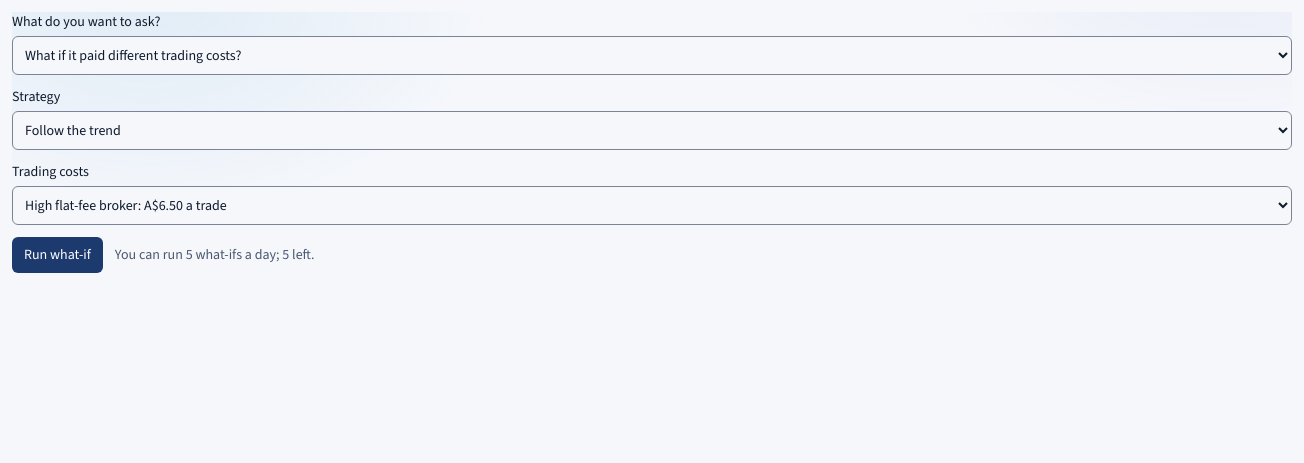
Scenario: what-if form variants › asks for a price move for the shock question and shows its answer with signed amounts
The width and height of the screenshot is (1304, 463).
Select "What if every share moved by the same percentage?" in the dropdown labelled "What do you want to ask?" at (652,56), box [12,36,1292,75]
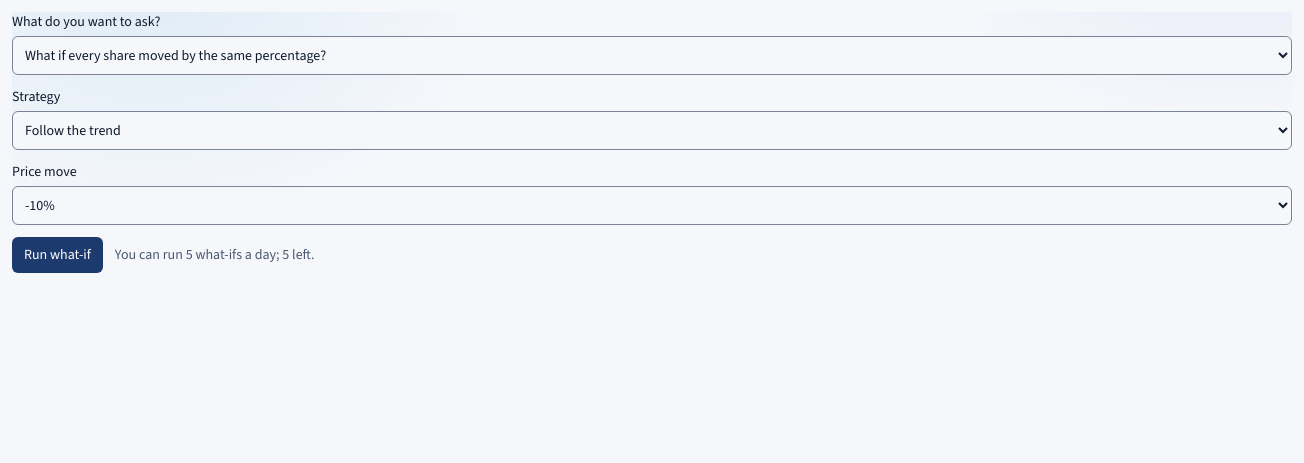
Expected: the text "Trading costs" is gone
Select "+10%" in the dropdown labelled "Price move" at (652,206), box [12,186,1292,225]
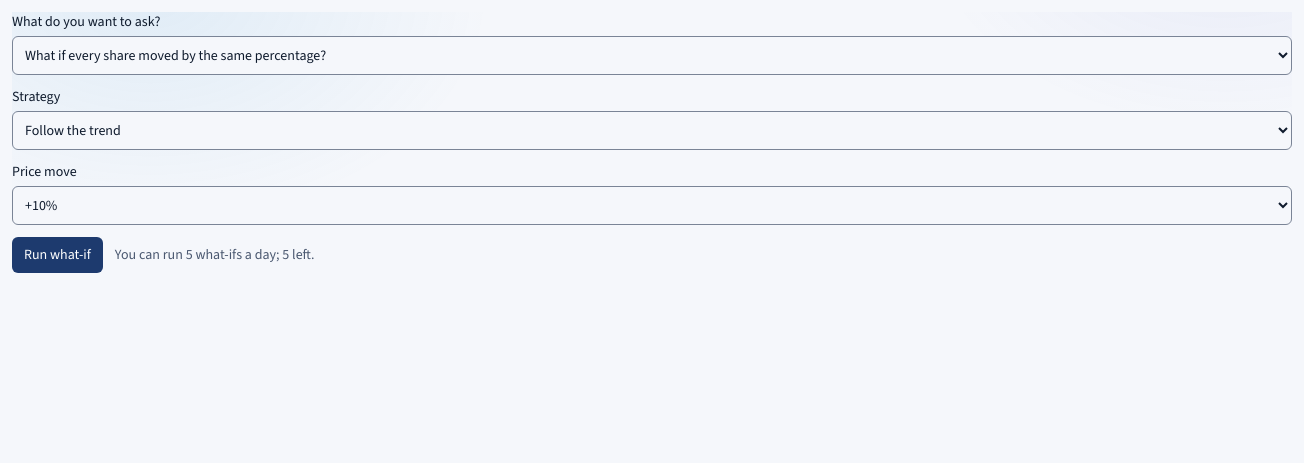
Click the button "Run what-if" at (57,255), box [12,237,103,273]
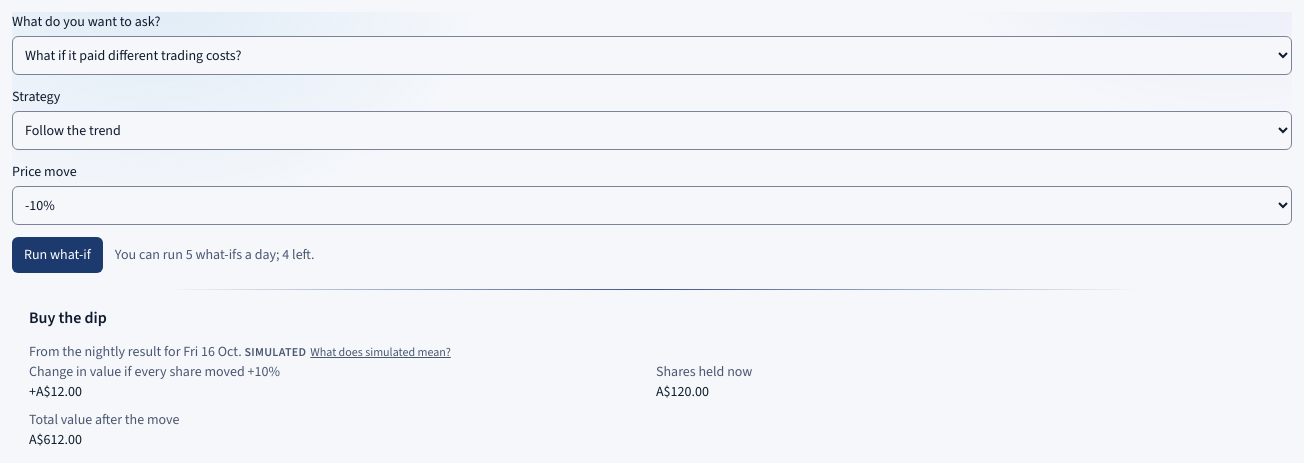
Expected: the heading "Buy the dip" is shown, [29,306,107,330]
Expected: the text "Change in value if every share moved +10%" is shown, [29,362,280,381]
Expected: the text "Shares held now" is shown, [656,362,752,381]
